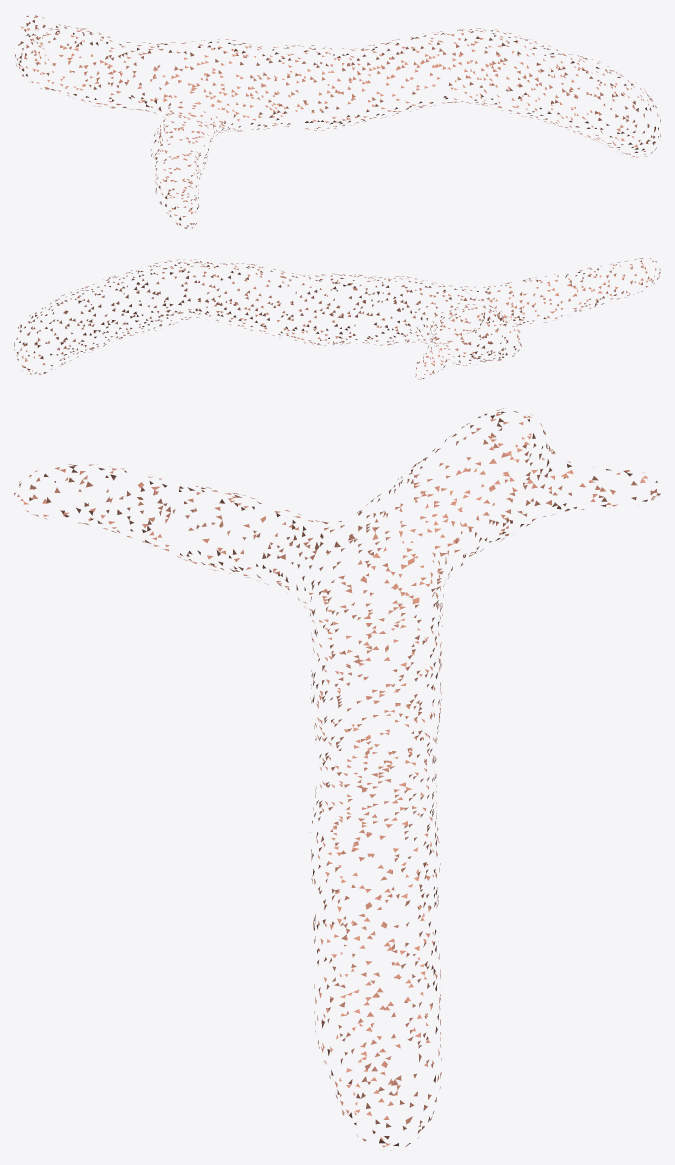
The model's file is morph_003.glb.
The picture shows the model from 3 angles, top to bottom: view 1: azimuth 30°, elevation 25°; view 2: azimuth 150°, elevation 25°; view 3: azimuth 270°, elevation 25°; orthographic projection. The views are drawn at different scales.
Bounding box in the file's own units: 111 × 40.52 × 70.52.
